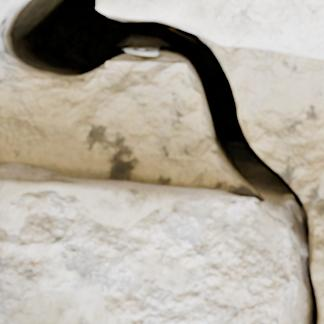brick: (0, 163, 298, 323)
broken_brick: (99, 0, 323, 59), (0, 0, 15, 18)
crack: (0, 0, 321, 323)
